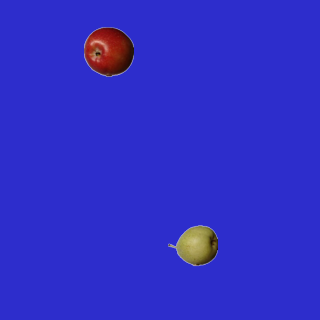Apple Braeburn: (83, 26, 133, 76)
Pear: (167, 220, 217, 270)
